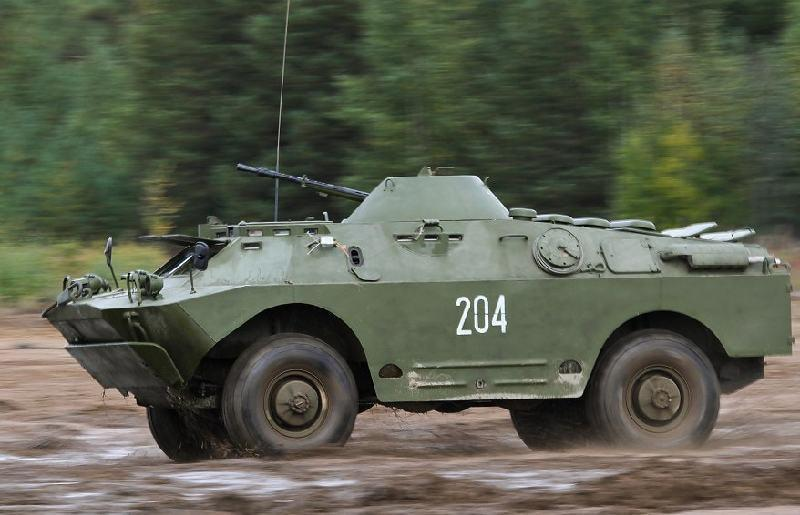tank: (42, 152, 799, 449)
